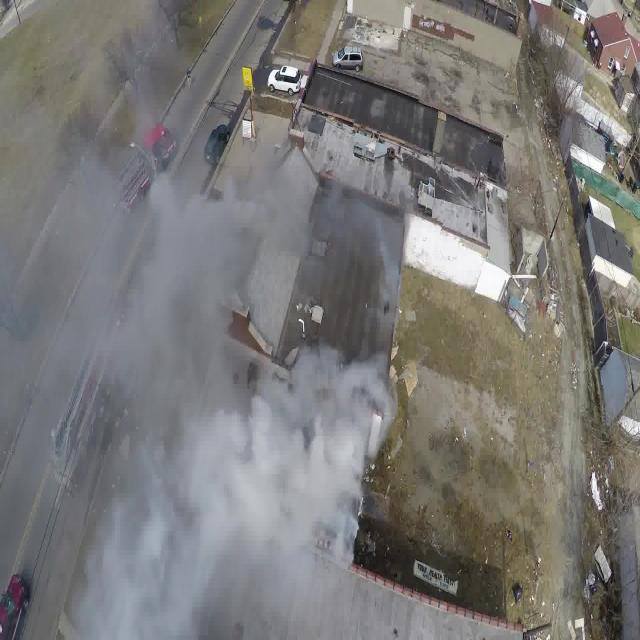Fire: (144, 128, 161, 149)
Smoke: (129, 339, 321, 581)
